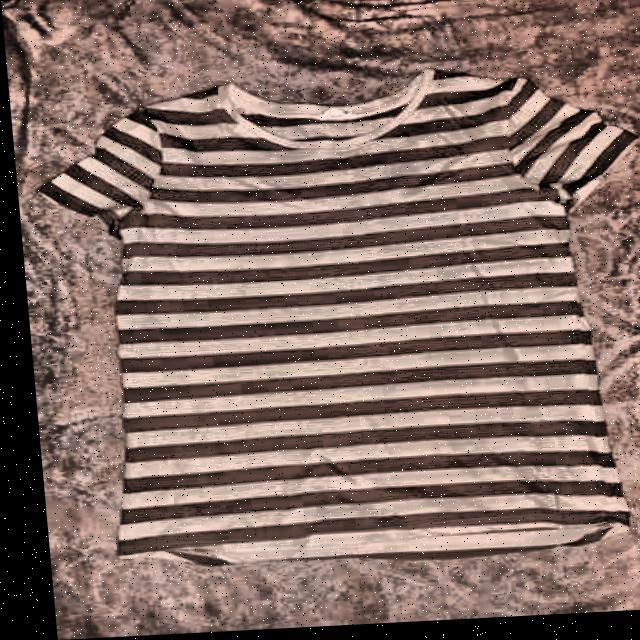clothes: (28, 61, 640, 576)
